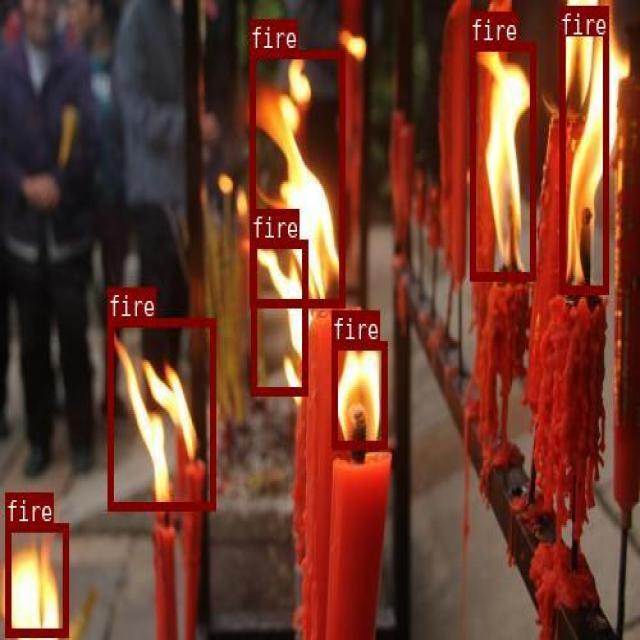fire: (249, 49, 344, 305), (107, 316, 215, 509), (469, 41, 534, 278), (559, 5, 608, 292), (250, 238, 307, 394), (4, 521, 67, 635), (331, 341, 386, 447)
